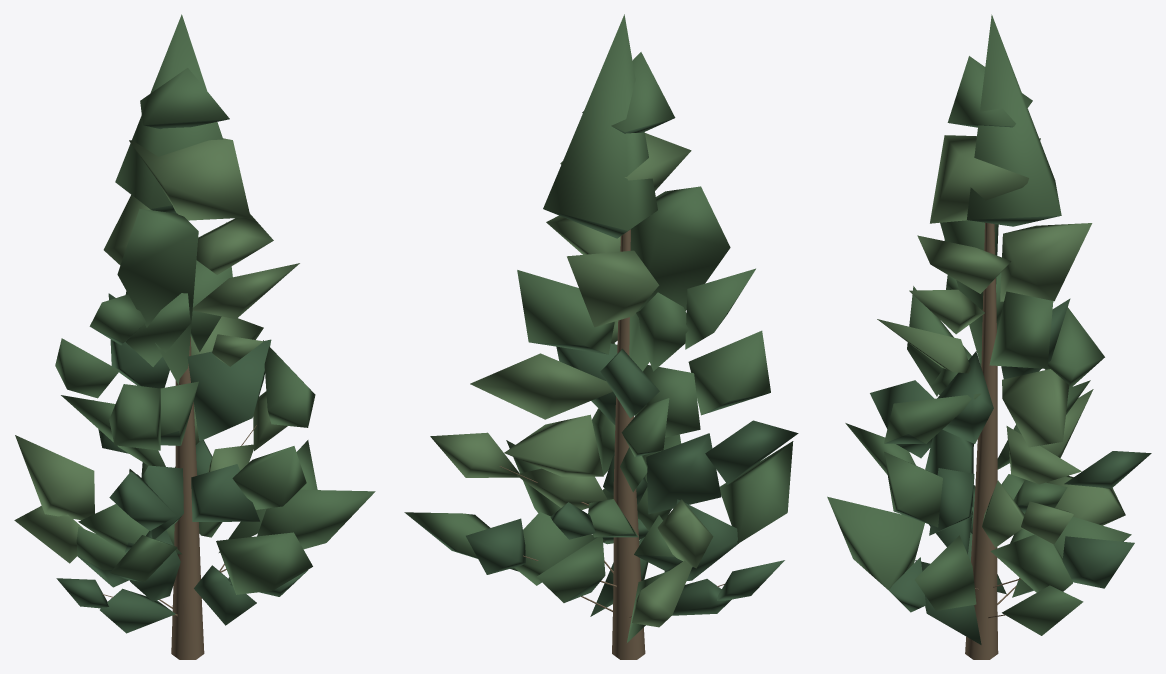
The model's file is spruce-b-low.glb.
3 renders of one model, left to right at view 1: azimuth 30°, elevation 25°; view 2: azimuth 150°, elevation 25°; view 3: azimuth 270°, elevation 25°, orthographic.
Size of the model in its own units: 6.62 by 12.8 by 5.89.
